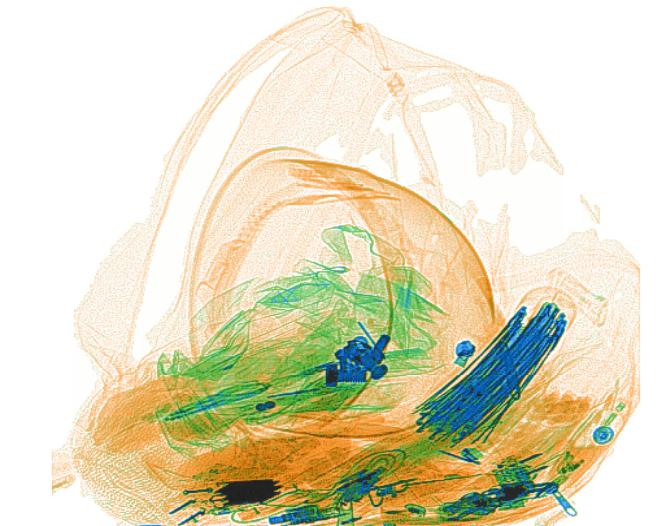plasticBottleWithaNozzle: (551, 373, 638, 485)
